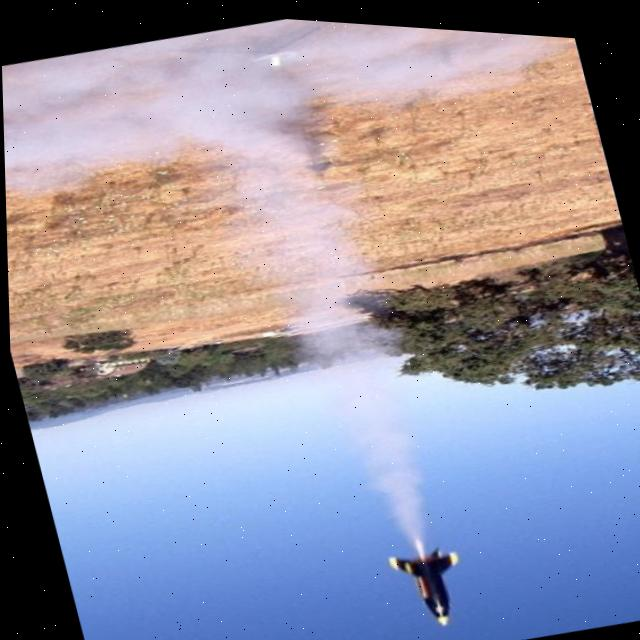missile: (373, 532, 471, 633)
